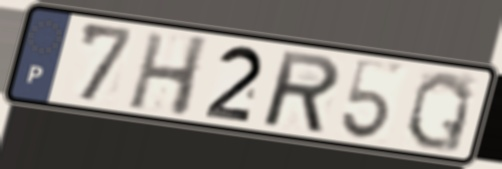2: (203, 44, 265, 125)
5: (338, 56, 413, 144)
7: (77, 20, 139, 104)
H: (125, 30, 213, 120)
Q: (402, 68, 476, 155)
R: (262, 47, 343, 136)
